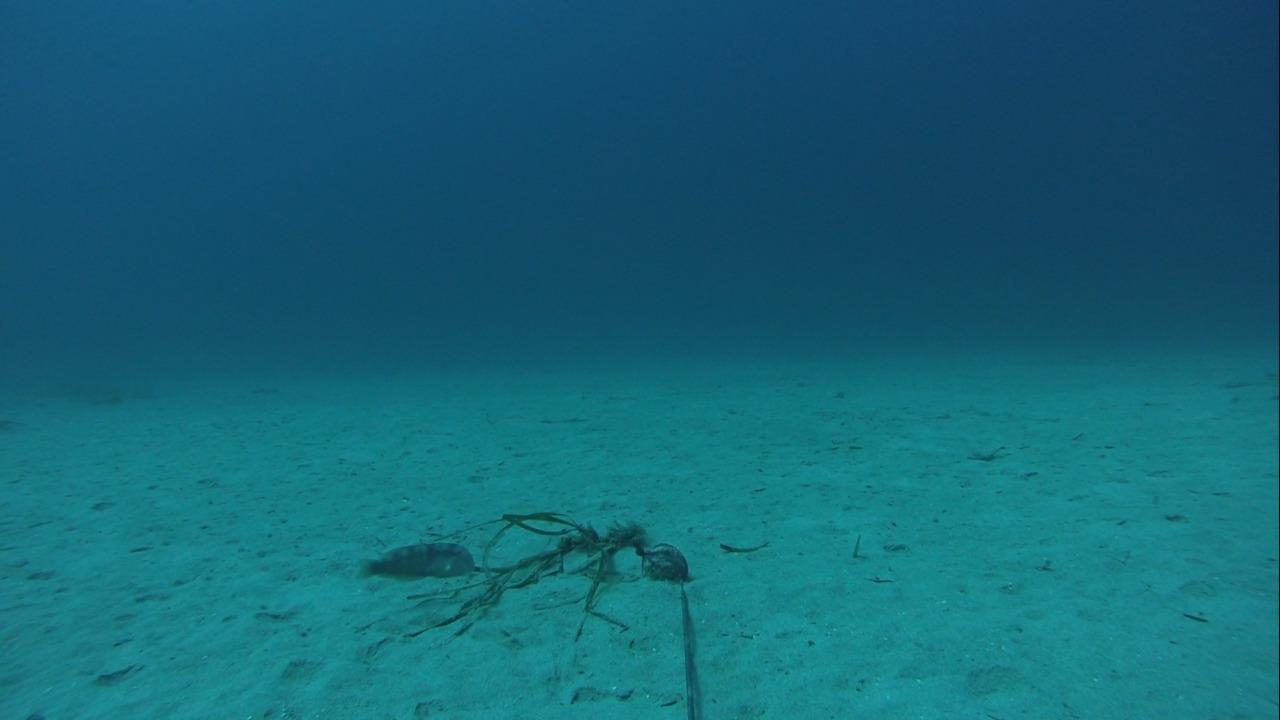raor: (355, 538, 478, 581)
